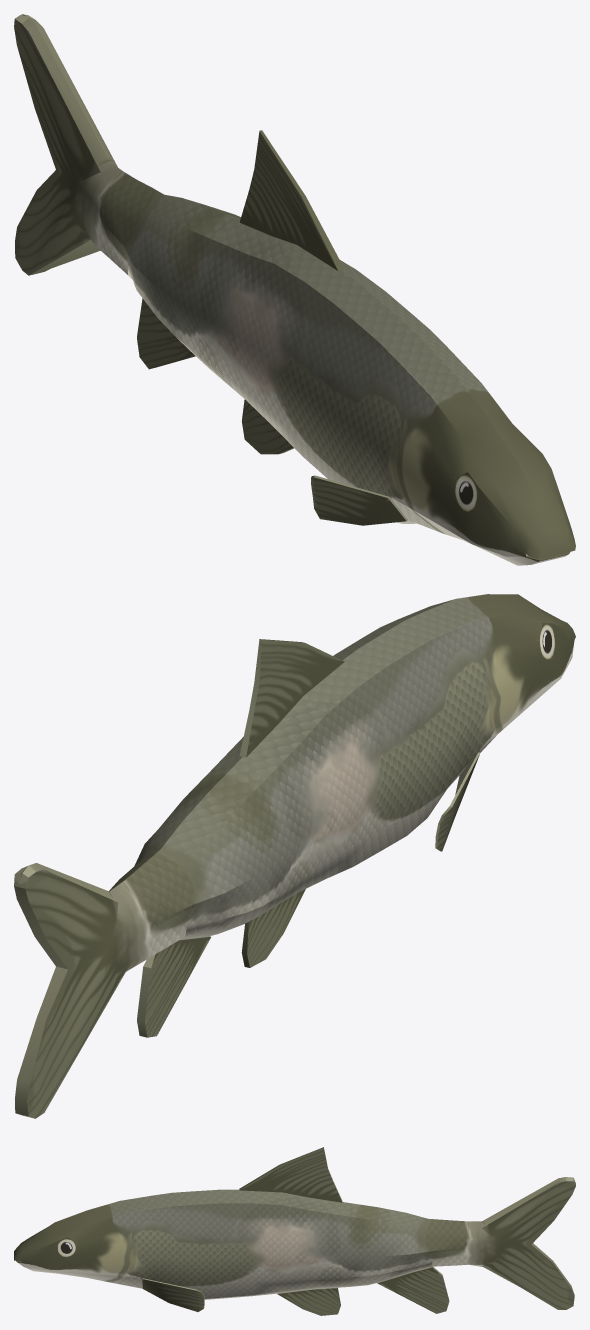
File: Luciobarbus guiranois.fbx
3 renders of one model, top to bottom at view 1: azimuth 30°, elevation 25°; view 2: azimuth 150°, elevation 25°; view 3: azimuth 270°, elevation 25°, orthographic. The views are drawn at different scales.
Visible parts, largest first — view 1: Luciobarbus guiranois; view 2: Luciobarbus guiranois; view 3: Luciobarbus guiranois.
Part boxes in pixels (x1=…): Luciobarbus guiranois: x1=14, y1=14, x2=575, y2=565; Luciobarbus guiranois: x1=14, y1=594, x2=575, y2=1118; Luciobarbus guiranois: x1=14, y1=1147, x2=575, y2=1315.
Bounding box in the file's own units: 75.78 × 168 × 509.
Materials: 1 (1 with a texture image).
